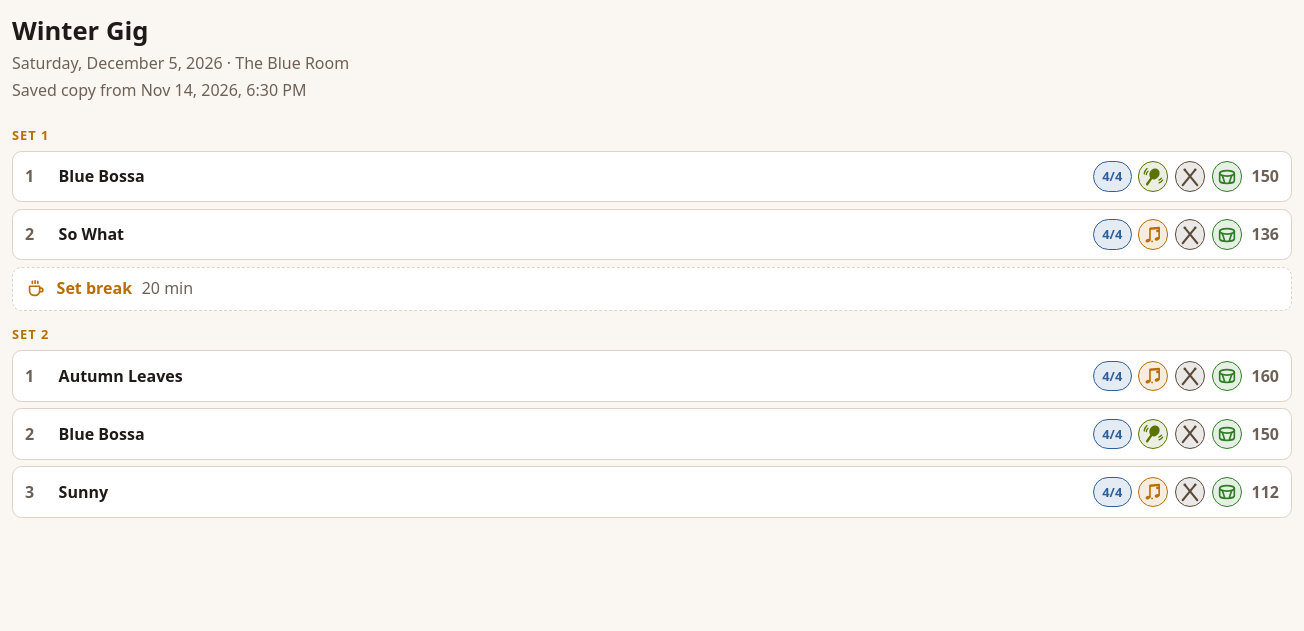
Test case: SetlistPage › offline, shows the saved copy without edit controls, and reloads when back online keeping the open tune
This screenshot has width=1304, height=631.
Check: the text "Saved copy from Nov 14, 2026, 6:30 PM" is shown, box [12, 79, 349, 102]
Click the button "1 Autumn Leaves 4/4 160": click(121, 376) [13, 351, 1291, 401]
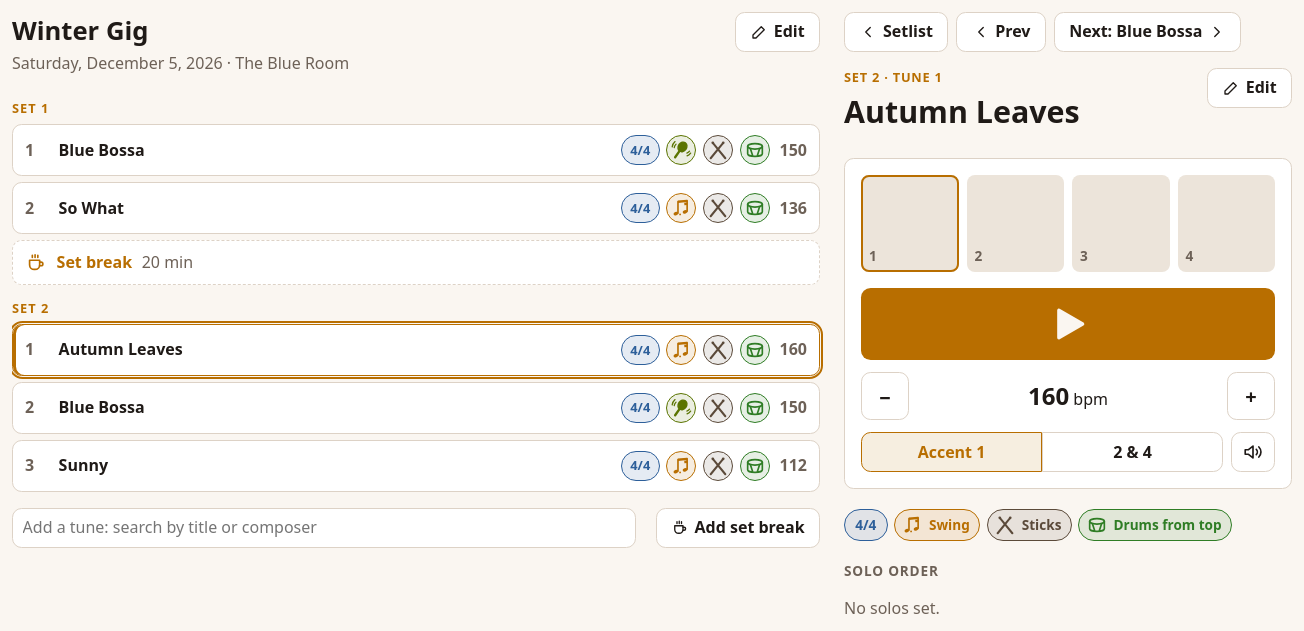
Check: the text "Set 2 · Tune 1" is shown, box [844, 68, 943, 86]
